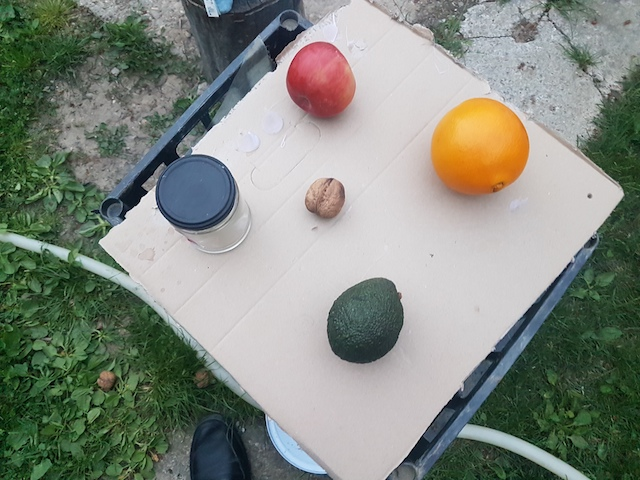apple: (283, 39, 360, 121)
avocado: (328, 275, 411, 366)
nut: (299, 169, 347, 222)
orange: (429, 94, 535, 198)
recipient: (153, 155, 235, 228)
